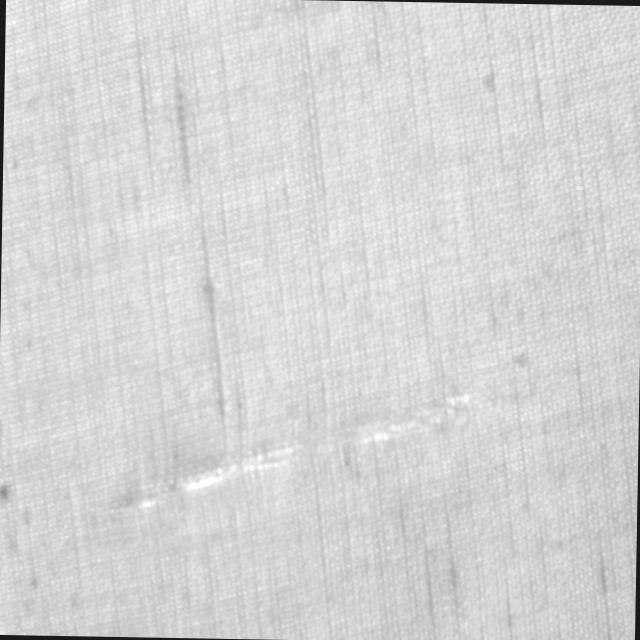thread error: (102, 381, 484, 519)
